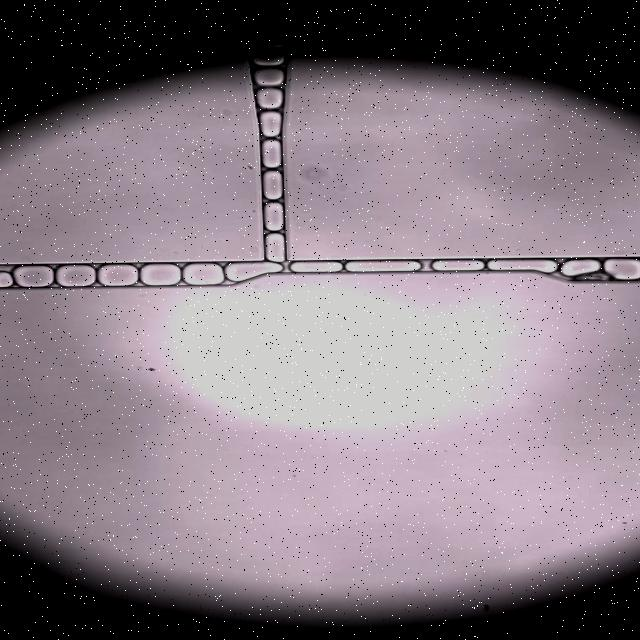L: (561, 260, 600, 276), (265, 233, 285, 262), (259, 111, 281, 137), (253, 68, 283, 87), (290, 261, 341, 272), (432, 260, 483, 271), (252, 49, 285, 66), (264, 203, 284, 231), (263, 171, 282, 200), (257, 88, 283, 109), (262, 140, 281, 168)
S: (225, 263, 282, 282), (488, 260, 556, 273), (97, 265, 138, 286), (13, 266, 53, 287), (56, 265, 96, 286), (141, 264, 180, 285), (346, 261, 420, 272), (183, 264, 223, 284), (604, 259, 640, 280), (0, 271, 13, 288)
